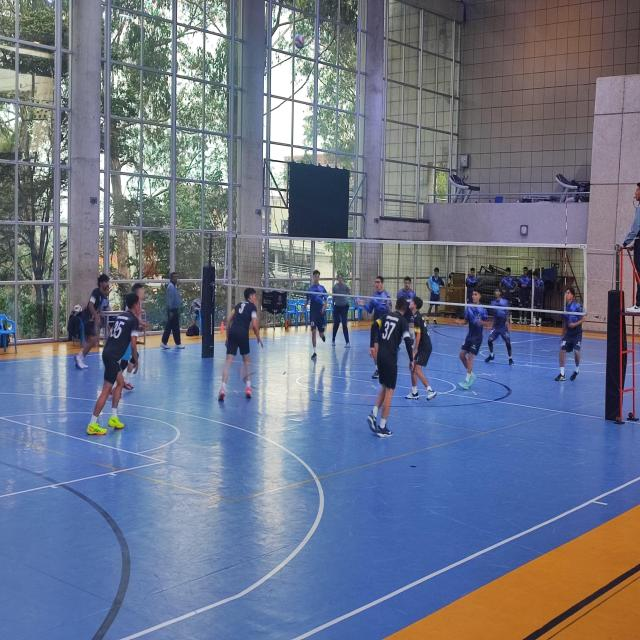volleyball: (294, 34, 304, 49), (73, 304, 82, 314)
